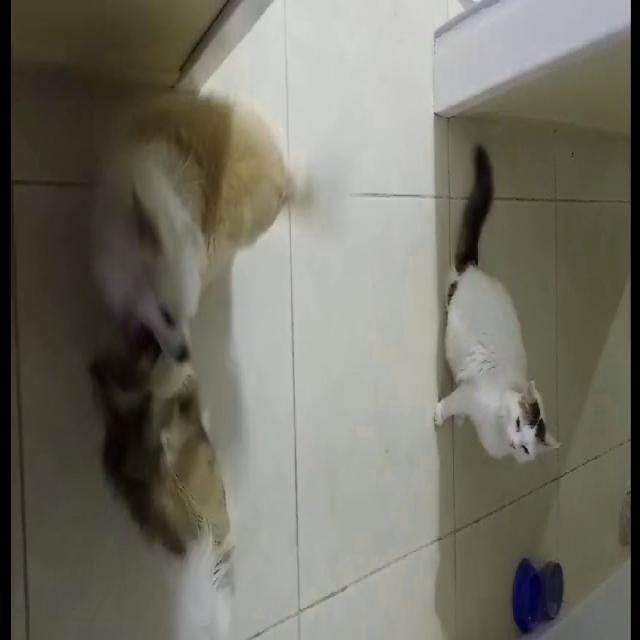Pedrita: (62, 322, 236, 596)
Theo: (70, 98, 342, 392)
